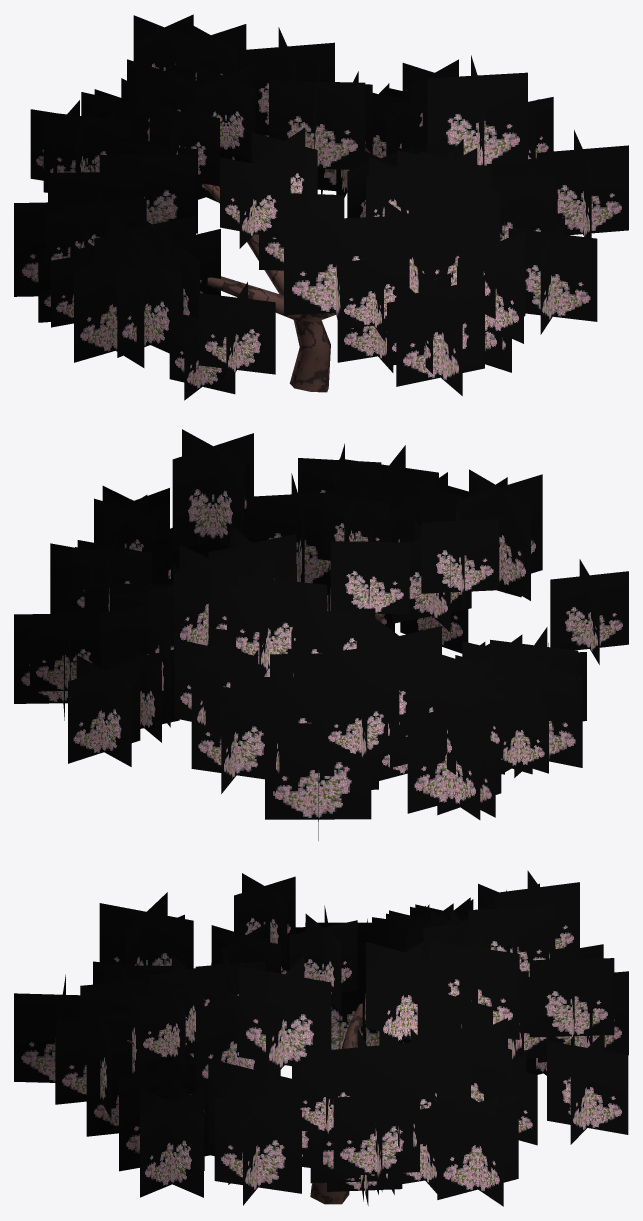
File: cherry1_lod0.fbx
3 renders of one model, top to bottom at view 1: azimuth 30°, elevation 25°; view 2: azimuth 150°, elevation 25°; view 3: azimuth 270°, elevation 25°, orthographic. The views are drawn at different scales.
Visible parts, largest first — view 1: cherry1_lod0; view 2: cherry1_lod0; view 3: cherry1_lod0.
Part boxes in pixels (x1,y1,x2,y2): cherry1_lod0: (14, 14, 628, 400); cherry1_lod0: (14, 429, 628, 840); cherry1_lod0: (14, 870, 628, 1206).
Bounding box in the file's own units: 12.93 × 7.15 × 13.59.
Materials: 2 (2 with a texture image).
